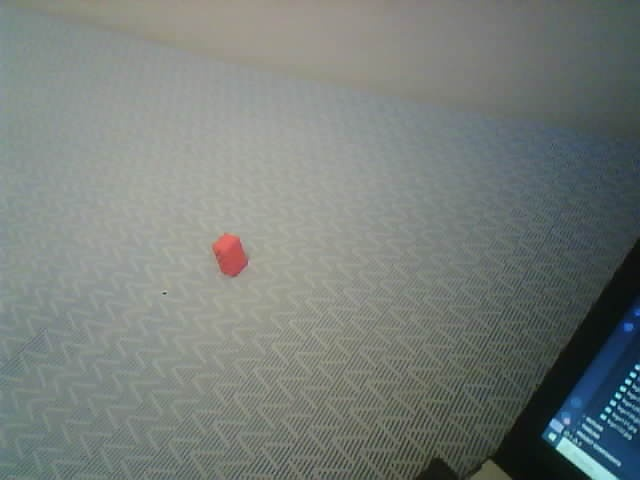lego: (211, 232, 249, 277)
